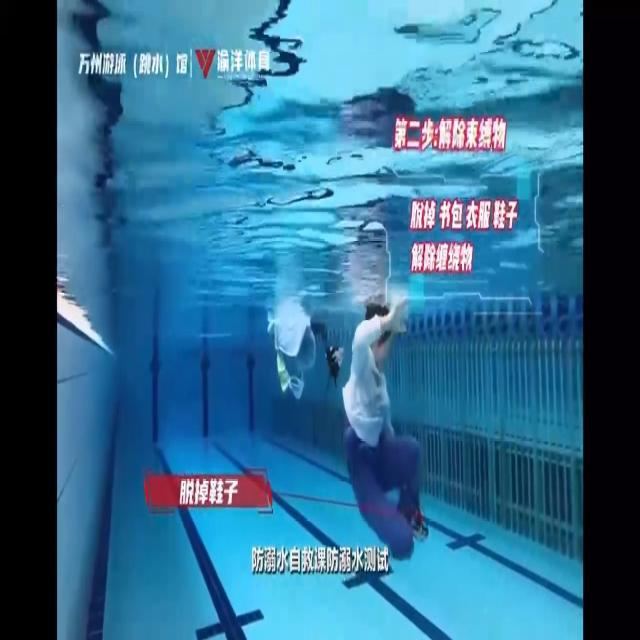Drowning: (344, 298, 428, 561)
